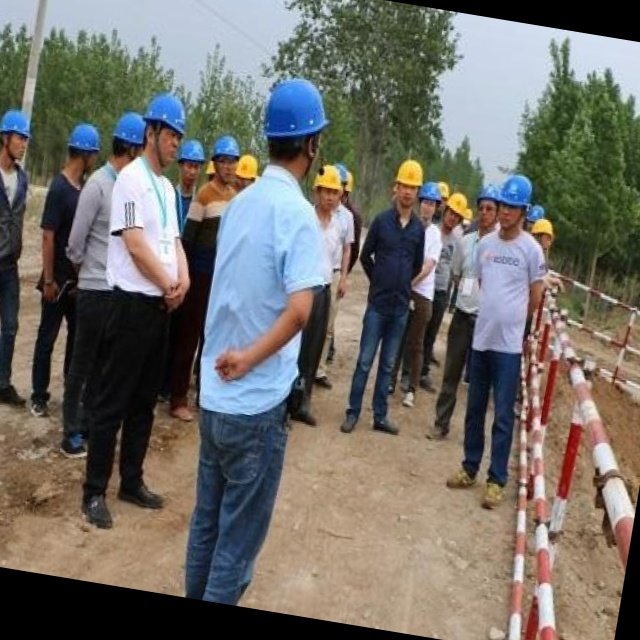Con_Casco: (262, 78, 335, 168), (492, 172, 535, 229)
Sin_Chaleco: (186, 177, 326, 424), (364, 205, 428, 306)
